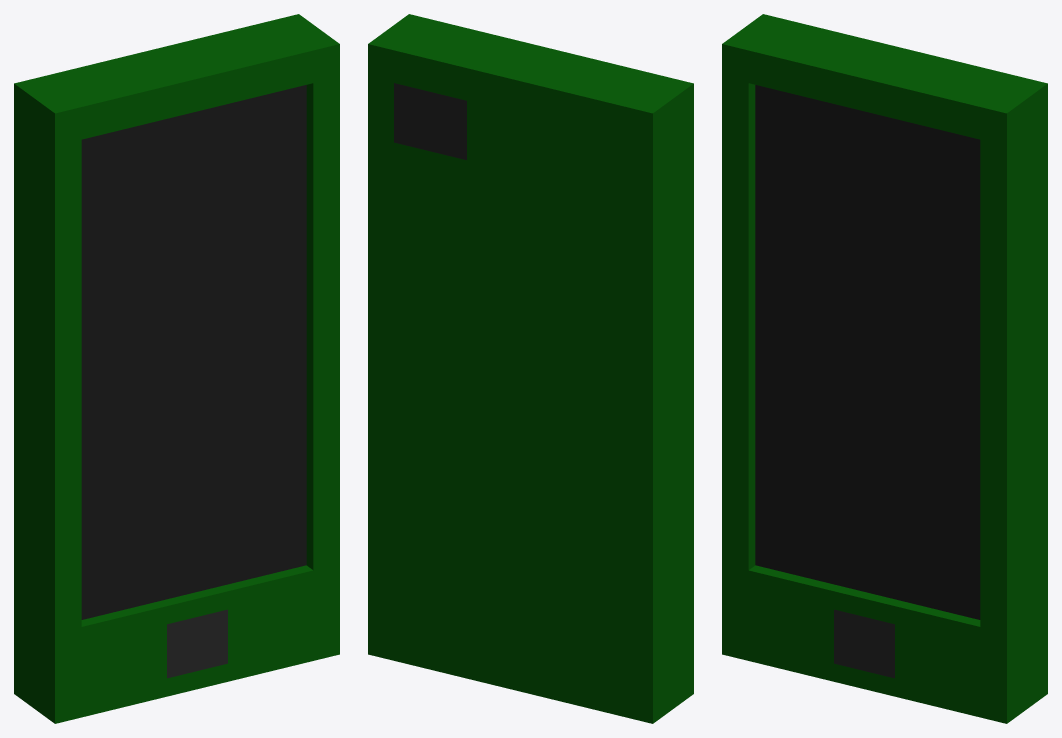
File: SmartPhoneGreen.fbx
3 views of the same model, side by side, from view 1: azimuth 30°, elevation 25°; view 2: azimuth 150°, elevation 25°; view 3: azimuth 330°, elevation 25° (orthographic).
Visible parts, largest first — view 1: SmartPhoneGreen; view 2: SmartPhoneGreen; view 3: SmartPhoneGreen.
Part boxes in pixels (left/top/right/bottom): SmartPhoneGreen: left=14, top=14, right=339, bottom=723; SmartPhoneGreen: left=368, top=14, right=693, bottom=723; SmartPhoneGreen: left=722, top=14, right=1047, bottom=723.
Bounding box in the file's own units: 0.1294 × 0.2651 × 0.0323.
